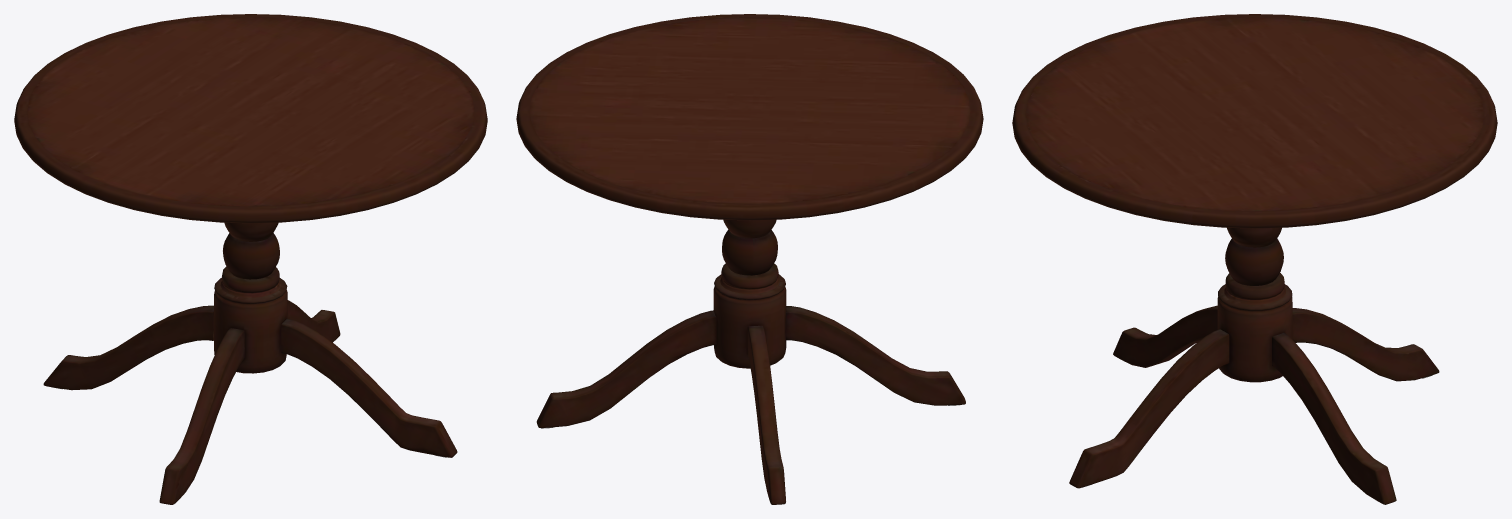
The model's file is round_wooden_table_01.580b583e.glb.
The picture shows the model from 3 angles, left to right: view 1: azimuth 30°, elevation 25°; view 2: azimuth 150°, elevation 25°; view 3: azimuth 270°, elevation 25°; orthographic projection. The views are drawn at different scales.
Parts seen in each view (by area): view 1: round_wooden_table_01; view 2: round_wooden_table_01; view 3: round_wooden_table_01.
Part boxes in pixels (bbox=[...]): round_wooden_table_01: bbox=[14, 14, 487, 504]; round_wooden_table_01: bbox=[516, 14, 983, 504]; round_wooden_table_01: bbox=[1012, 14, 1497, 504].
Bounding box in the file's own units: 0.72 × 0.5171 × 0.72.
Materials: 1 (1 with a texture image).
